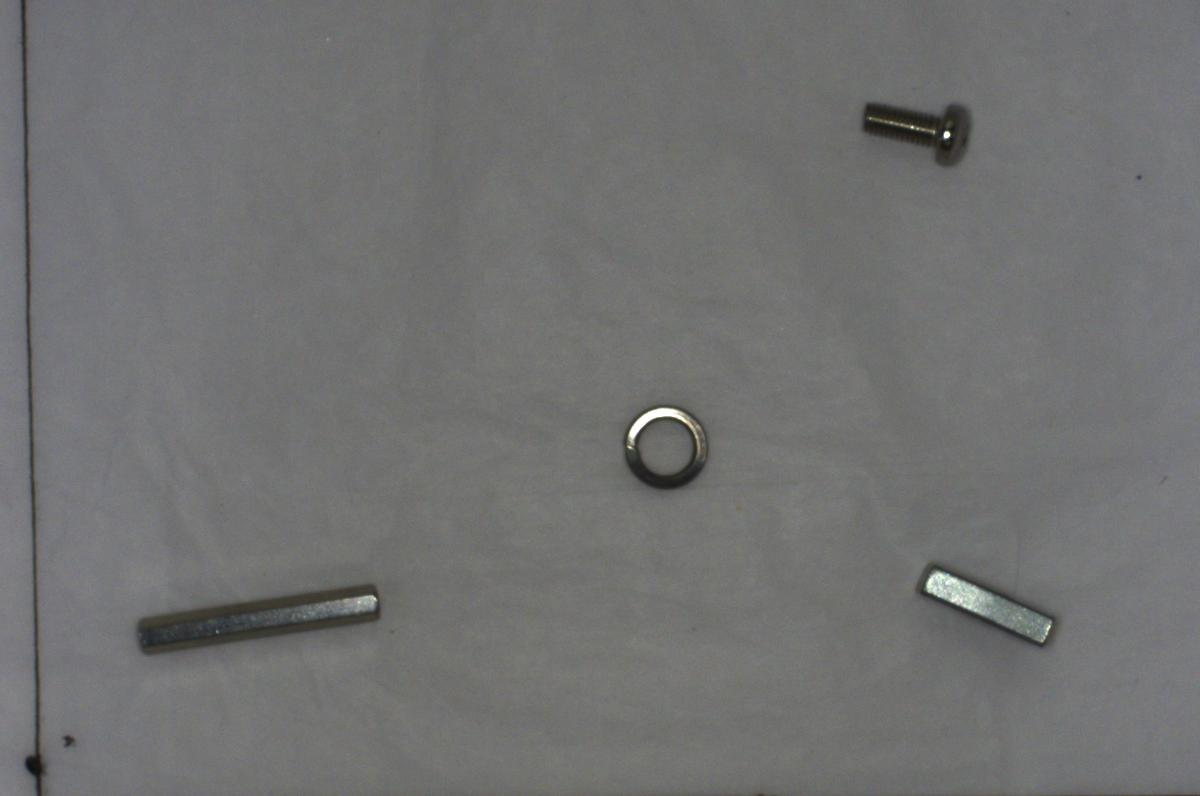Double hexagonal column: (132, 589, 387, 654)
Rectangular nut: (914, 560, 1059, 654)
Round head screw: (852, 82, 978, 173)
Spring washer: (619, 399, 713, 494)
